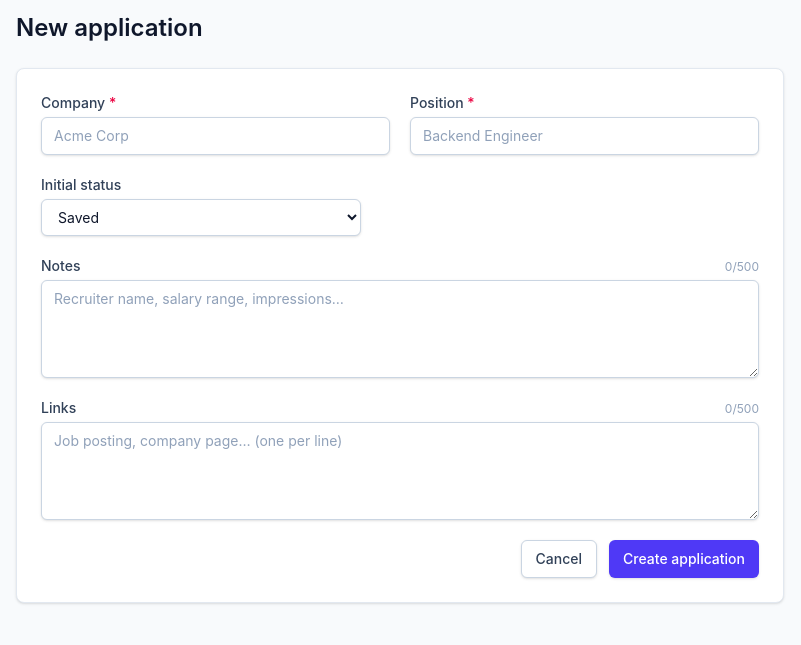
Test: NewApplicationPage › shows field errors from the backend next to the field
Type "Acme" into the field labelled "Company *" at (216, 136), box [41, 117, 390, 155]
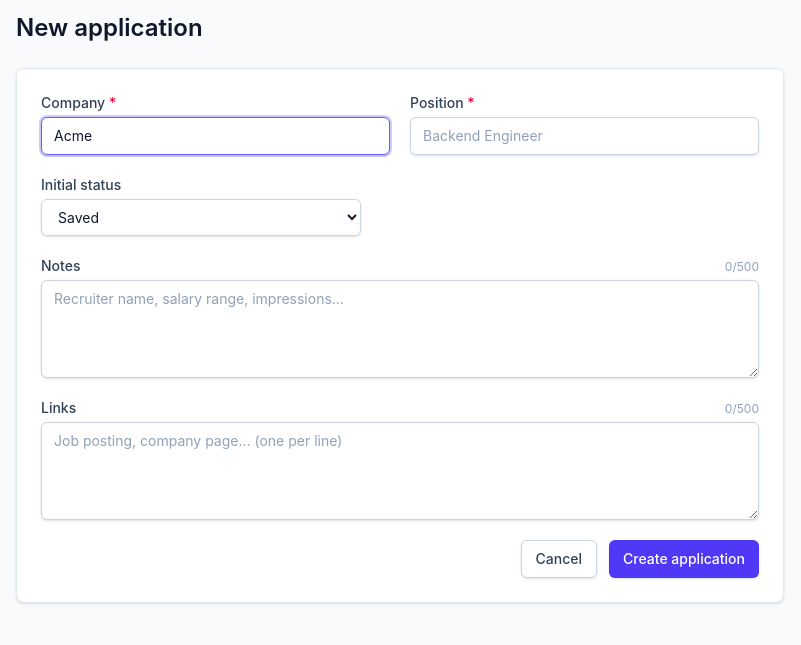
Type "Dev" into the field labelled "Position *" at (584, 136), box [410, 117, 759, 155]
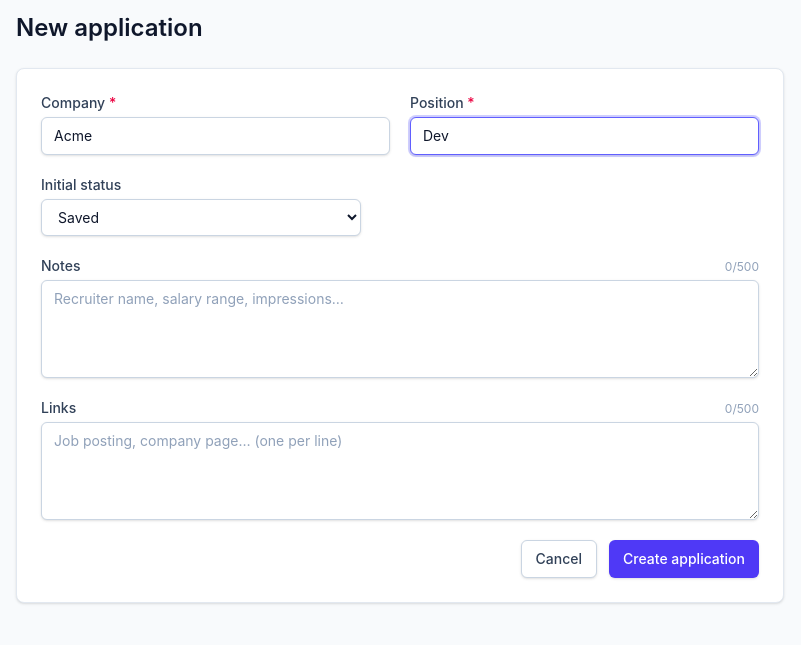
Click the button "Create application" at (684, 559), box [609, 540, 759, 578]
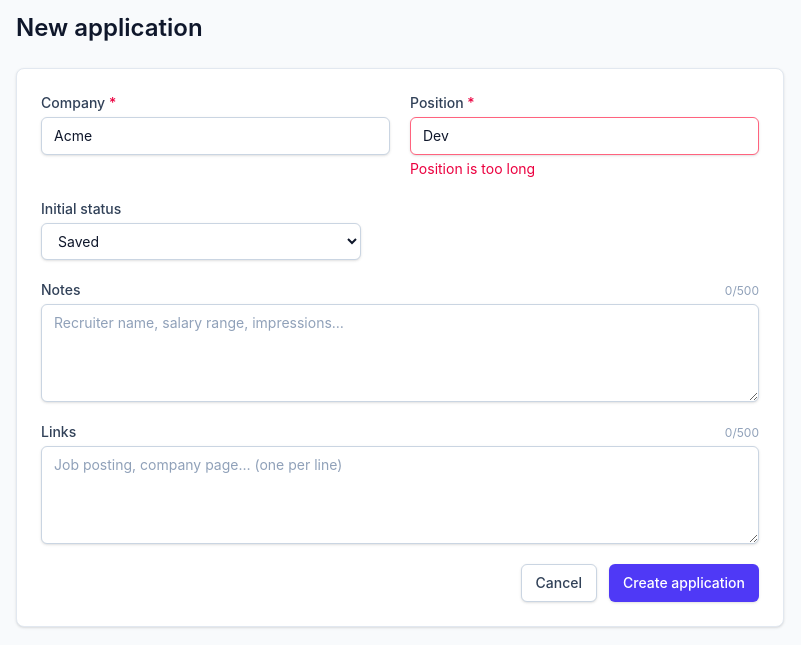
Check: the text "Position is too long" is shown, box [410, 160, 535, 177]
